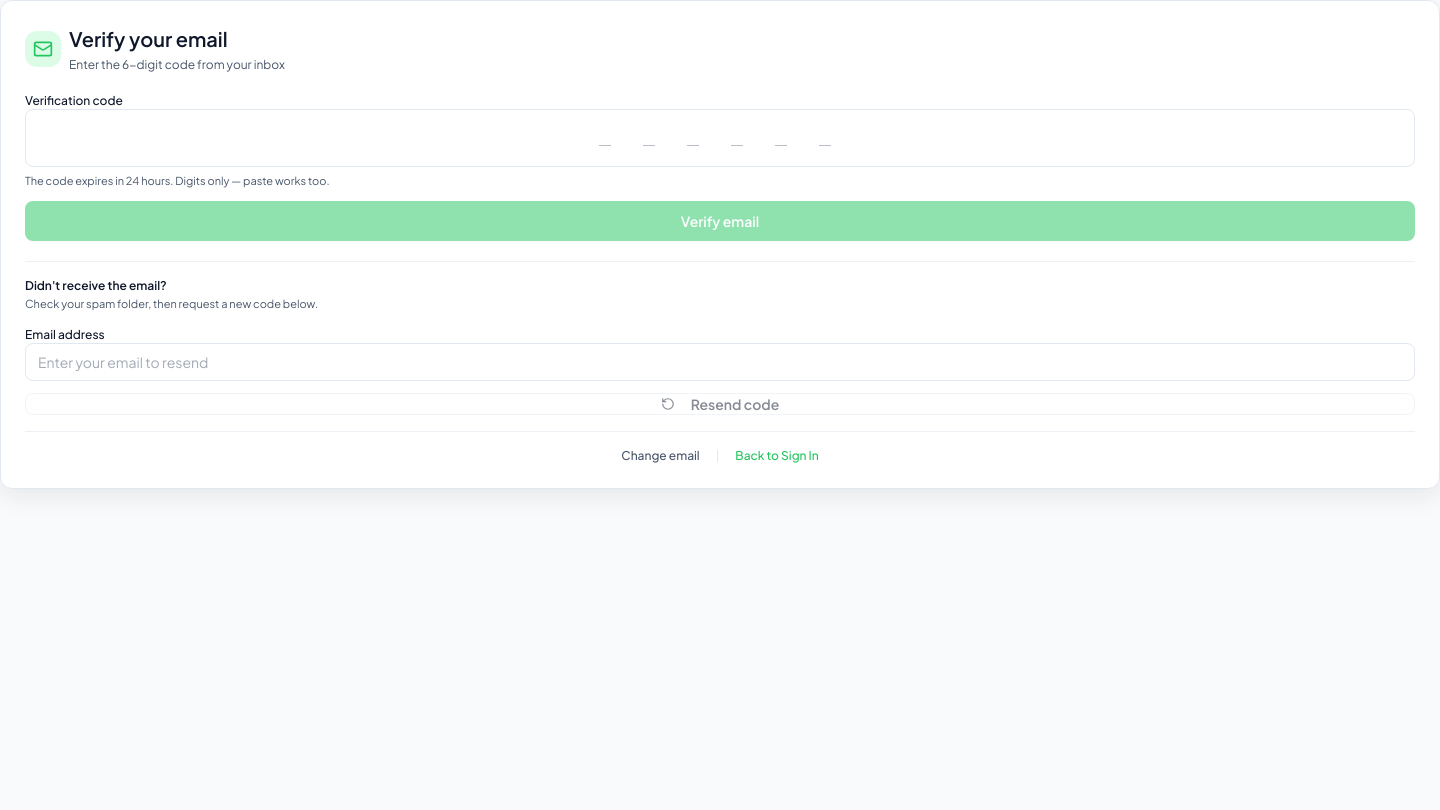
SPMS O2 Authentication Flow › Verify page › displays error state when code is invalid or expired
The image size is (1440, 810).
Type "000000" into the field named "6-digit verification code".
click(720, 138); type("000000")  # box x1=25 y1=109 x2=1415 y2=167
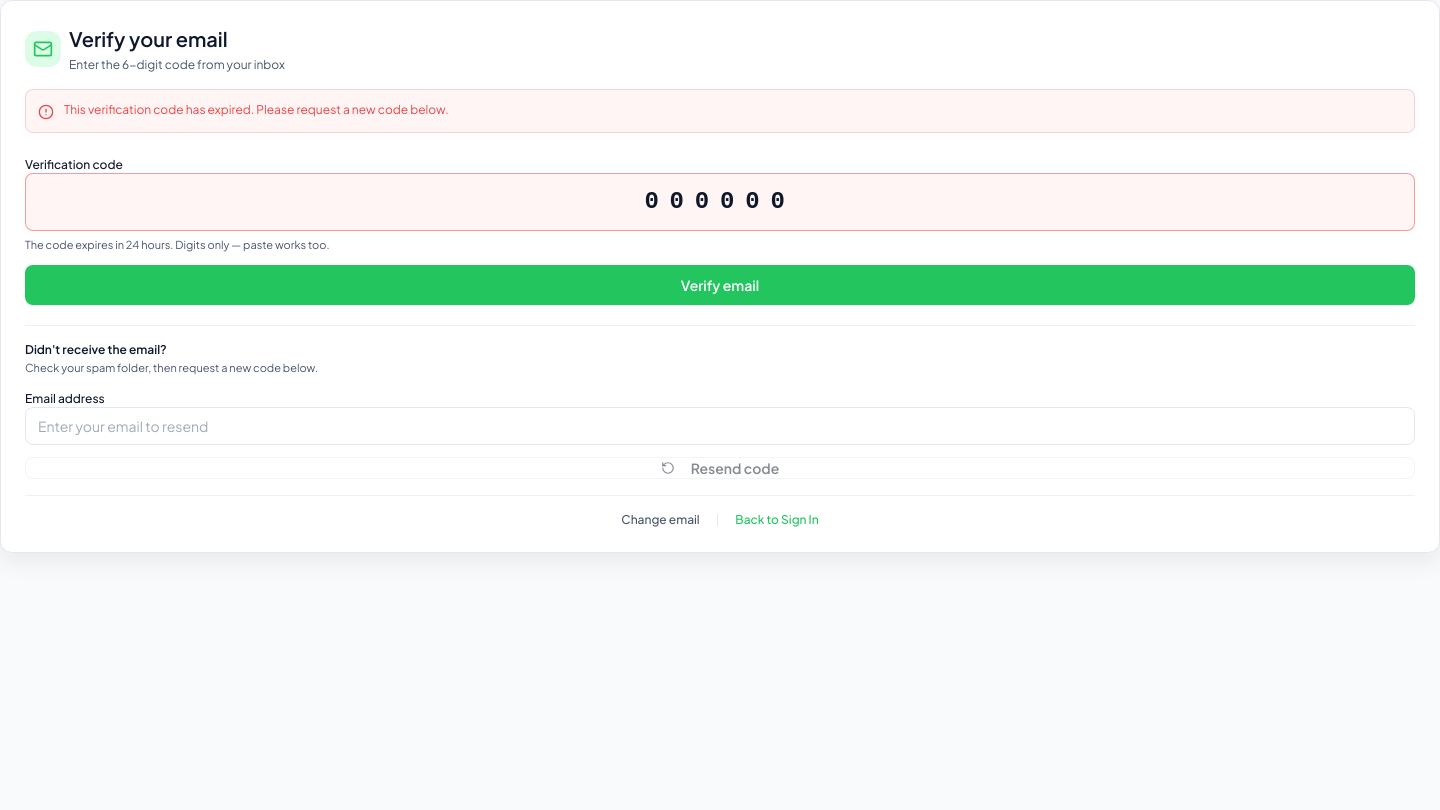
Expected: the message "This verification code has expired. Please request a new code below." is shown, x1=25 y1=89 x2=1415 y2=133
